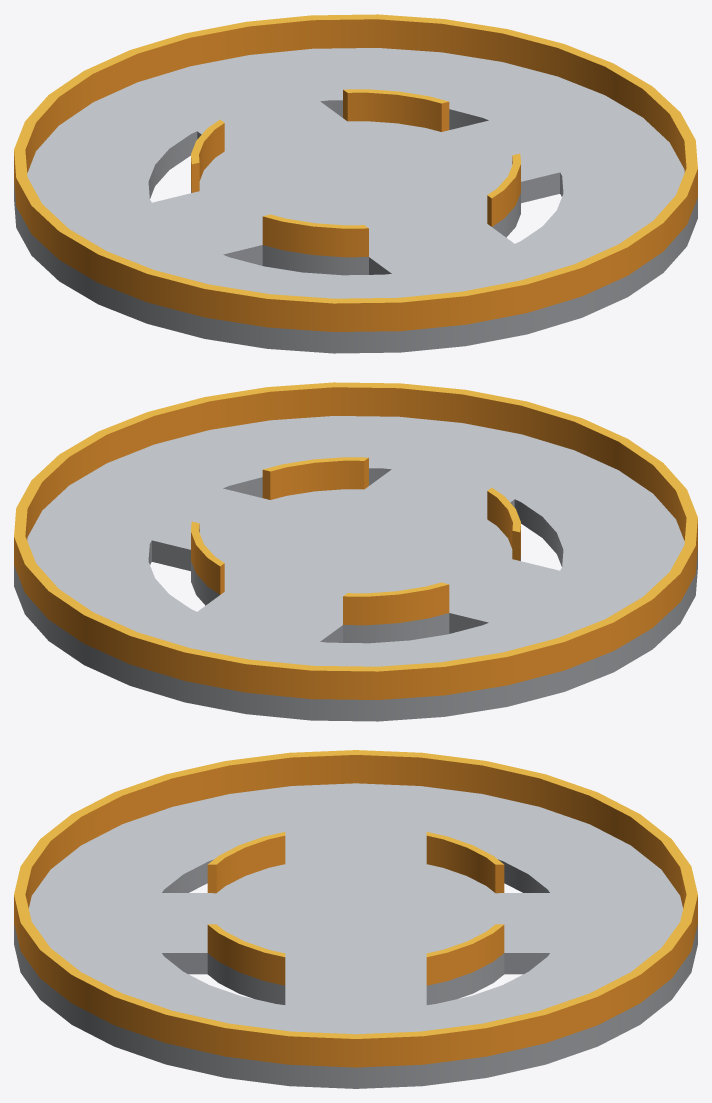
Rendered from battle_stage_8_platform.fbx.
3 views of the same model, one above another, from view 1: azimuth 30°, elevation 25°; view 2: azimuth 150°, elevation 25°; view 3: azimuth 270°, elevation 25° (orthographic).
Visible parts, largest first — view 1: Cylinder.036, Cylinder.048, Cylinder.033; view 2: Cylinder.036, Cylinder.048, Cylinder.033; view 3: Cylinder.036, Cylinder.048, Cylinder.033.
Part boxes in pixels (left/top/right/bottom): Cylinder.036: left=14, top=48, right=697, bottom=353; Cylinder.048: left=14, top=14, right=697, bottom=331; Cylinder.033: left=191, top=89, right=520, bottom=257; Cylinder.036: left=14, top=416, right=697, bottom=721; Cylinder.048: left=14, top=382, right=697, bottom=699; Cylinder.033: left=191, top=457, right=520, bottom=625; Cylinder.036: left=14, top=783, right=697, bottom=1088; Cylinder.048: left=14, top=750, right=697, bottom=1067; Cylinder.033: left=207, top=832, right=504, bottom=985.
Size of the model in its own units: 8700 by 700 by 8700.
